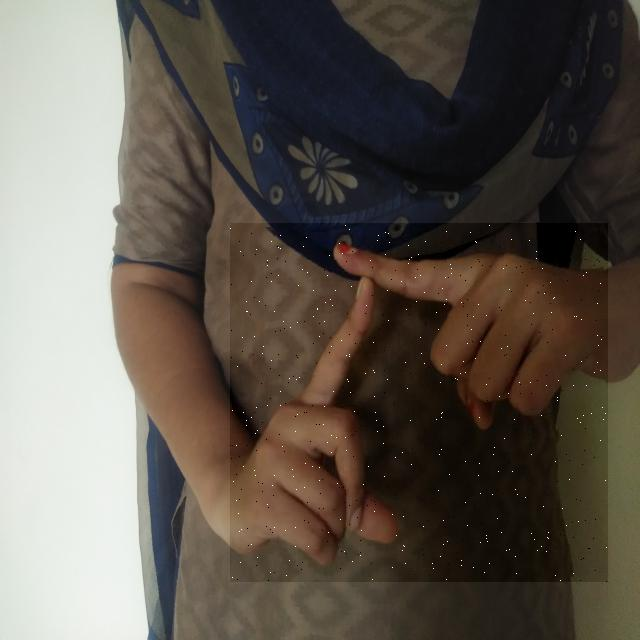T: (230, 223, 608, 582)
